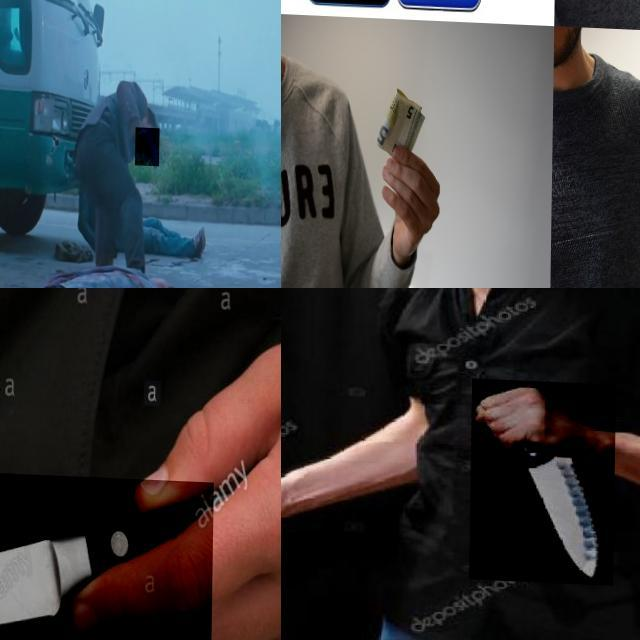-: (0, 463, 214, 640), (471, 375, 617, 581)
gun-knife-thesis - v11 Yolov5 augmented: (136, 126, 160, 164)
